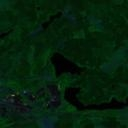alloviz: (62, 85, 128, 111), (49, 50, 82, 79), (40, 10, 62, 31), (1, 30, 13, 40)
